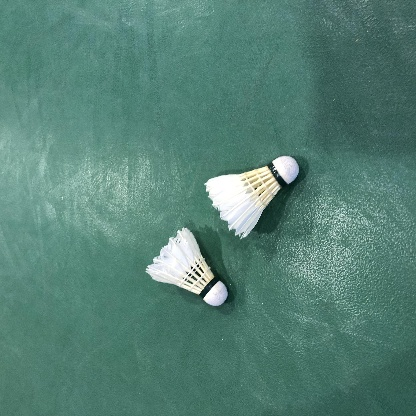ball_single: (204, 156, 299, 240), (145, 227, 228, 306)
